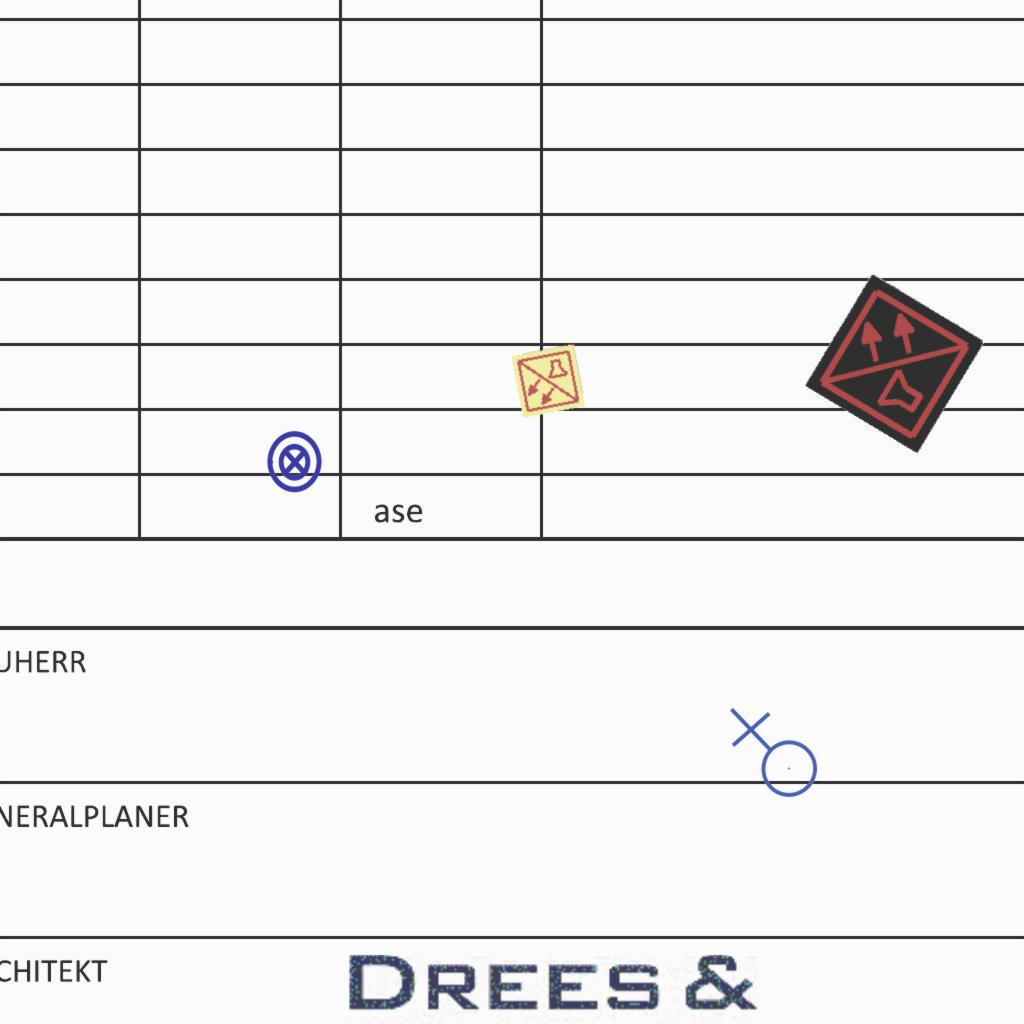Elektroanschluss_allgemein_230V_Geraeteanschlussdose_230V: (725, 707, 819, 806)
OKW_Multisensormelder_(Kombination_optischer_Rauch-Kahlenmonoxid_Waerme-Melder): (804, 272, 986, 454), (509, 342, 587, 420)
Taster_beleuchtet: (262, 429, 328, 495)
